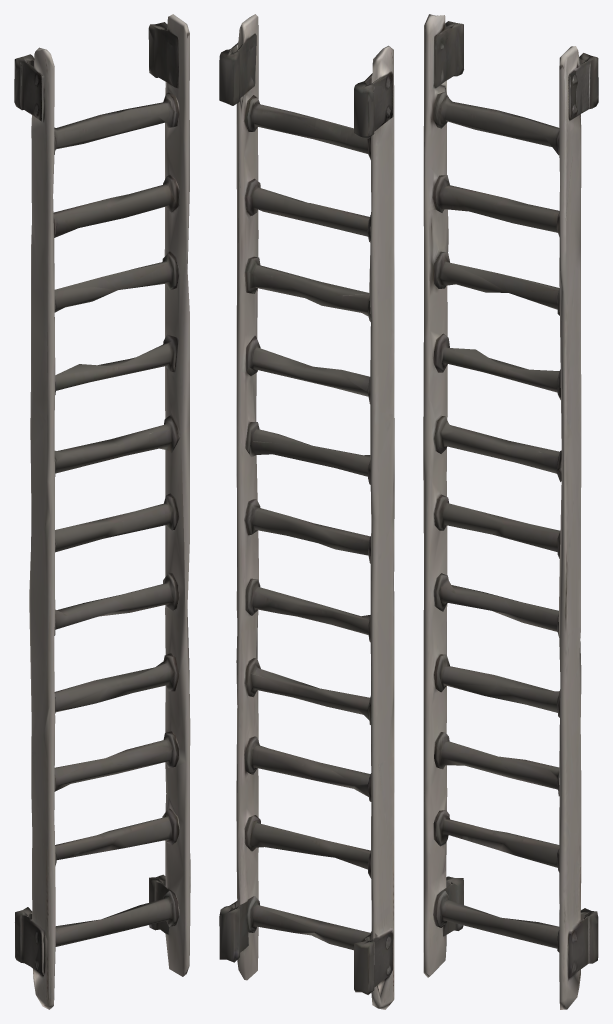
The model's file is ladder.glb.
3 renders of one model, left to right at view 1: azimuth 30°, elevation 25°; view 2: azimuth 150°, elevation 25°; view 3: azimuth 330°, elevation 25°, orthographic.
Parts seen in each view (by area): view 1: tripo_node_1ed161d2-9a6c-4226-aede-1033d532f571; view 2: tripo_node_1ed161d2-9a6c-4226-aede-1033d532f571; view 3: tripo_node_1ed161d2-9a6c-4226-aede-1033d532f571.
Part boxes in pixels (x1,y1,x2,y2): tripo_node_1ed161d2-9a6c-4226-aede-1033d532f571: (14, 14, 190, 1009); tripo_node_1ed161d2-9a6c-4226-aede-1033d532f571: (219, 14, 394, 1009); tripo_node_1ed161d2-9a6c-4226-aede-1033d532f571: (423, 14, 598, 1009).
Size of the model in its own units: 0.4999 by 3 by 0.1831.
Materials: 1 (1 with a texture image).
